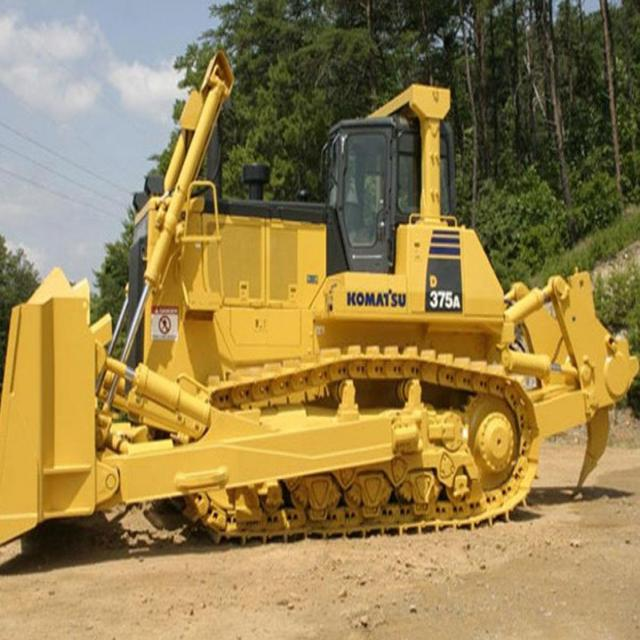Bulldozer: (6, 36, 638, 555)
